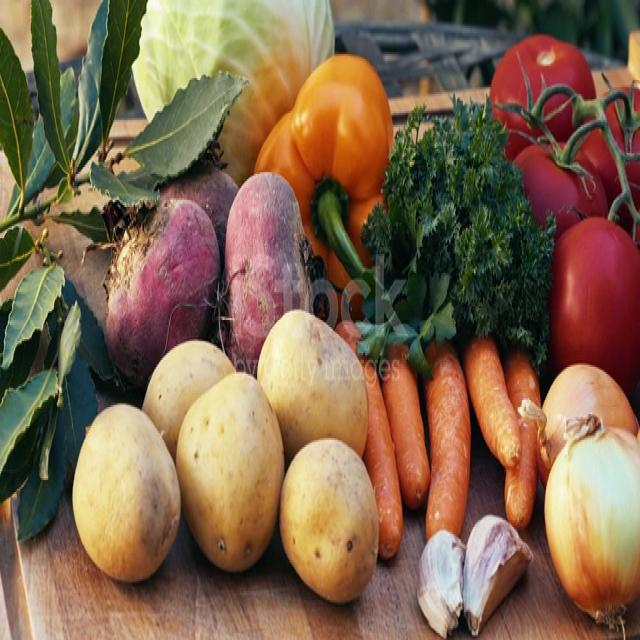carrot: (424, 339, 471, 538), (361, 357, 402, 560), (382, 346, 430, 510), (462, 337, 521, 466), (504, 352, 546, 527)
potato: (176, 374, 284, 571), (72, 404, 181, 582), (258, 311, 368, 462), (280, 439, 379, 602), (142, 341, 234, 460)
tomato: (549, 217, 640, 392), (488, 35, 593, 147), (515, 126, 608, 238), (580, 86, 640, 238), (489, 103, 558, 162)
